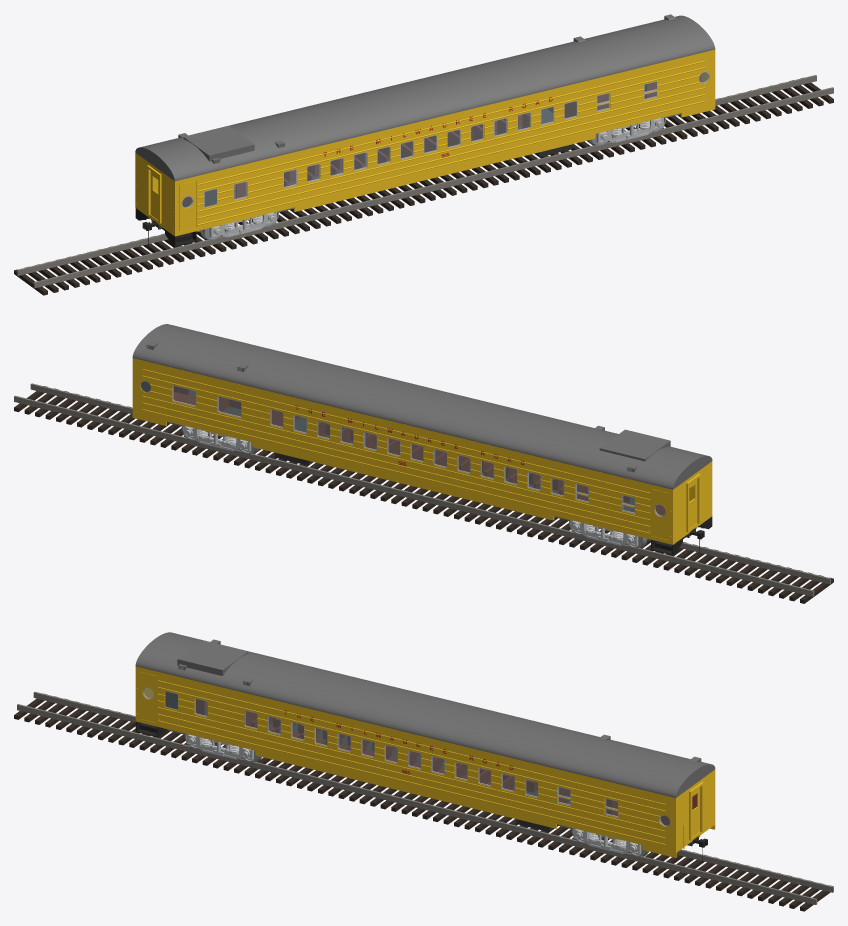
File: MRCE_Coach560_G.glb
3 views of the same model, one above another, from view 1: azimuth 30°, elevation 25°; view 2: azimuth 150°, elevation 25°; view 3: azimuth 330°, elevation 25° (orthographic).
Visible parts, largest first — view 1: orange, roof, ties, rails, glass, interior, trucks, rims; view 2: orange, roof, ties, rails, glass, interior, trucks, rims, floor; view 3: orange, roof, ties, rails, glass, interior, trucks, rims.
Boxes of the visible parts, box(x1,y1,x2,y2) form: orange: box(135, 49, 715, 236); roof: box(135, 14, 715, 181); ties: box(14, 77, 833, 295); rails: box(16, 75, 833, 288); glass: box(153, 72, 708, 207); interior: box(182, 75, 701, 207); trucks: box(209, 117, 663, 237); rims: box(181, 71, 709, 208); orange: box(132, 358, 712, 544); roof: box(132, 324, 712, 489); ties: box(14, 386, 833, 603); rails: box(14, 383, 830, 596); glass: box(173, 386, 693, 516); interior: box(173, 386, 665, 515); trucks: box(183, 425, 638, 546); rims: box(140, 380, 665, 516); floor: box(189, 389, 697, 537); orange: box(135, 666, 715, 857); roof: box(135, 632, 715, 797); ties: box(14, 693, 832, 911); rails: box(17, 691, 833, 904); glass: box(143, 687, 669, 825); interior: box(196, 699, 696, 825); trucks: box(186, 734, 641, 854); rims: box(142, 687, 670, 826).
Size of the model in its own units: 1.24 by 0.1488 by 0.1069.
